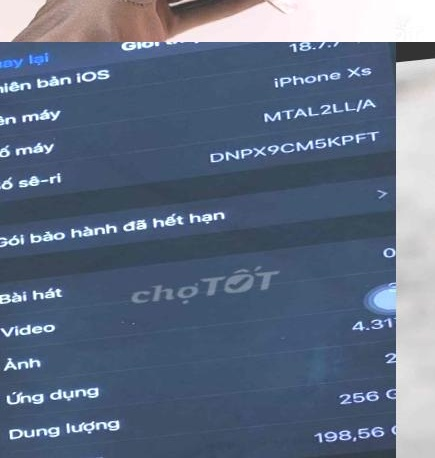scratch: (245, 0, 302, 21)
